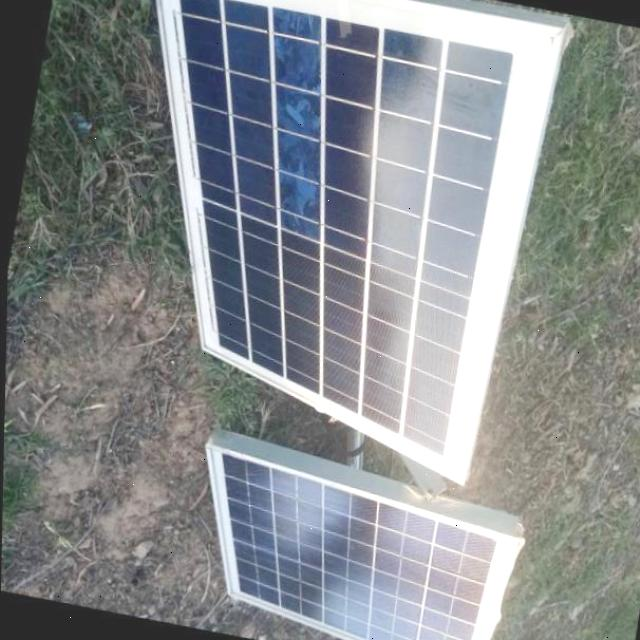Normal Solar Panel: (79, 0, 559, 491), (177, 454, 520, 640)
